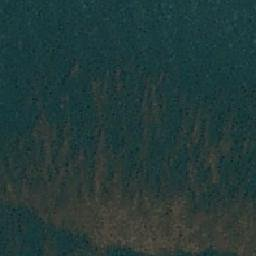debris: (143, 193, 193, 246), (70, 154, 109, 216), (1, 159, 49, 204), (194, 211, 255, 246), (108, 179, 145, 227), (47, 145, 68, 205), (34, 119, 54, 159), (80, 226, 120, 246), (44, 215, 106, 226), (34, 206, 80, 214)
